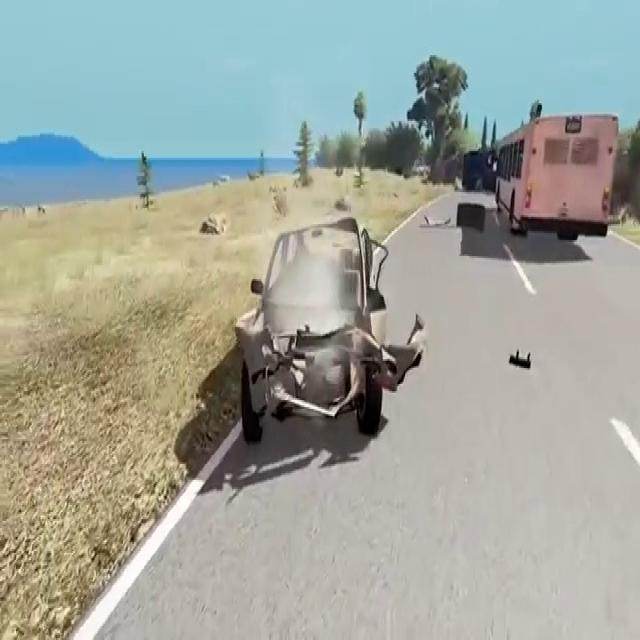severe: (232, 210, 425, 453)
